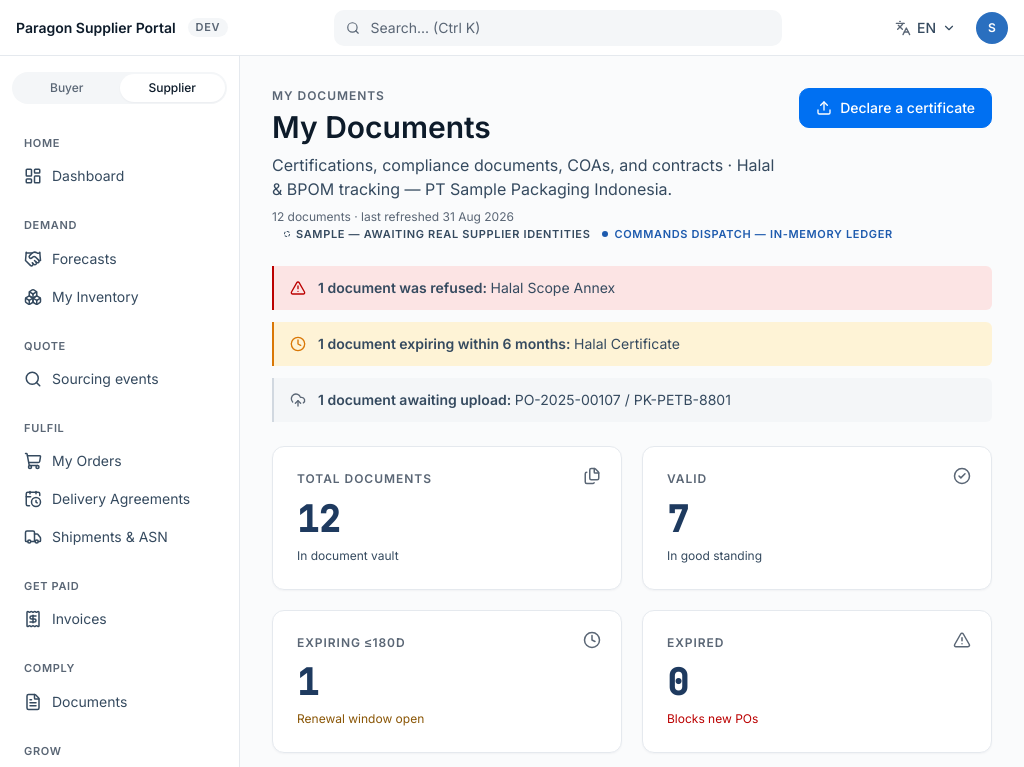
Test: §82 · the supplier declares — and the surface says what it is › states whose act it is recorded as, before the act
Click the button "Declare a certificate" at (896, 108), box [799, 88, 992, 128]
(page scrolled)
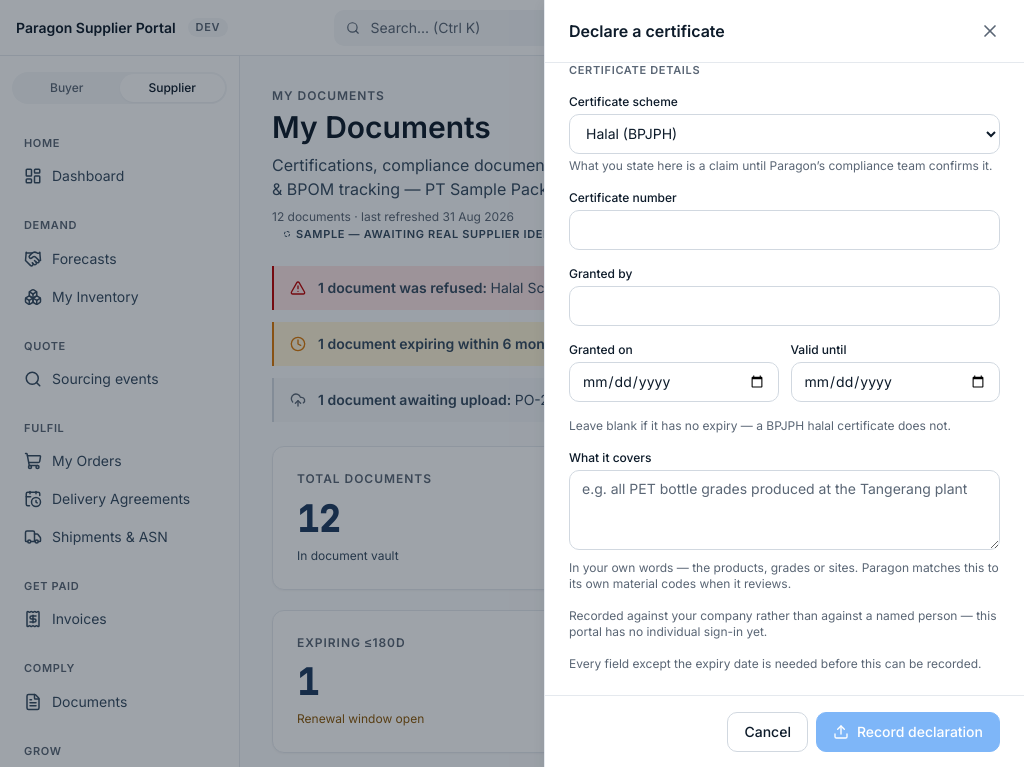
Expected: the text with test id "declaration-attribution" shows "against your company rather than against a named person", [569, 608, 996, 639]
